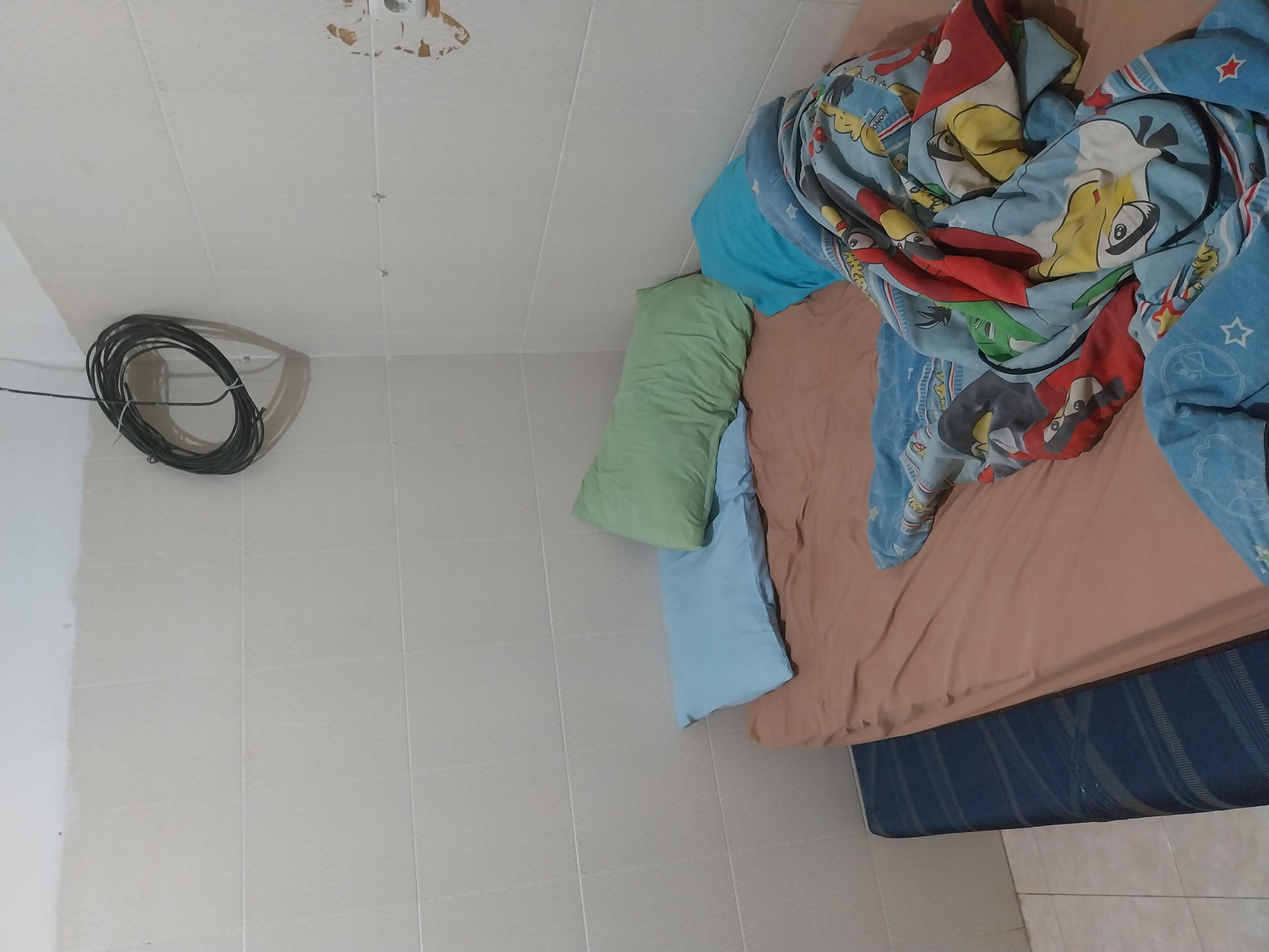bed: (274, 558, 899, 952), (82, 635, 426, 952), (1147, 767, 1269, 909), (1195, 626, 1269, 714), (1158, 814, 1163, 815)
blanket: (495, 560, 1269, 952)
pillow: (526, 427, 924, 575), (298, 479, 732, 599), (813, 495, 1070, 631)
